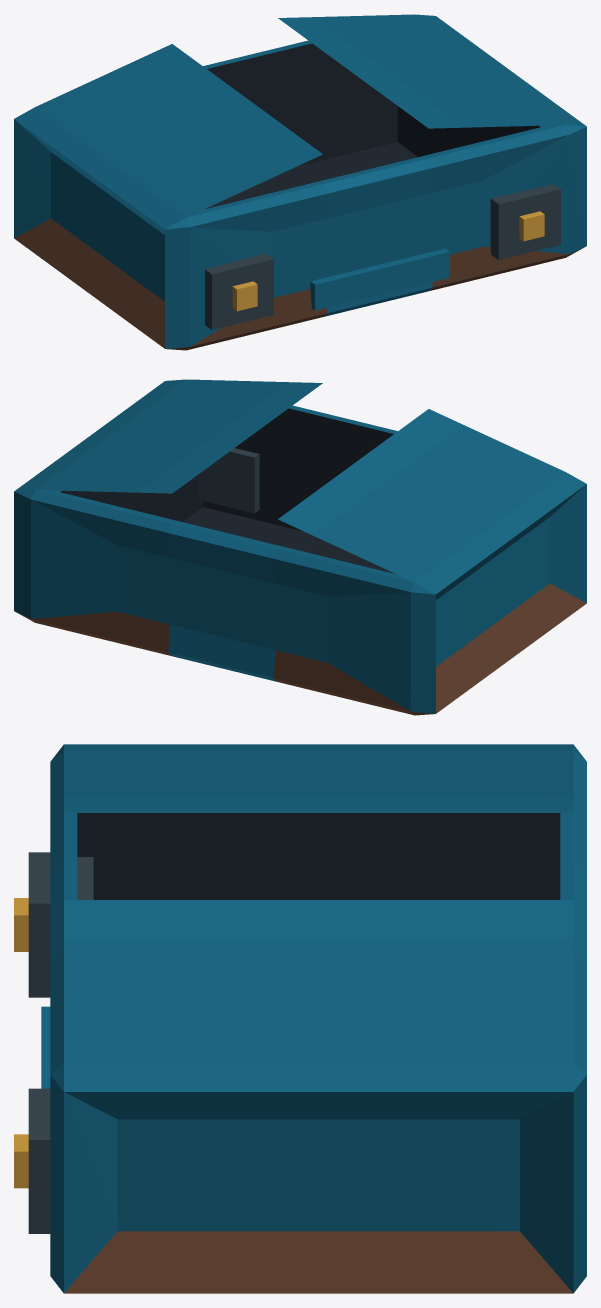
The model's file is fish-crate-sky.glb.
The picture shows the model from 3 angles, top to bottom: view 1: azimuth 30°, elevation 25°; view 2: azimuth 150°, elevation 25°; view 3: azimuth 270°, elevation 25°; orthographic projection. The views are drawn at different scales.
Visible parts, largest first — view 1: fish-crate-sky; view 2: fish-crate-sky; view 3: fish-crate-sky.
Part boxes in pixels (left/top/right/bottom): fish-crate-sky: left=14, top=14, right=586, bottom=350; fish-crate-sky: left=14, top=379, right=586, bottom=715; fish-crate-sky: left=14, top=744, right=586, bottom=1293.
Bounding box in the file's own units: 0.95 × 0.35 × 0.6621.
